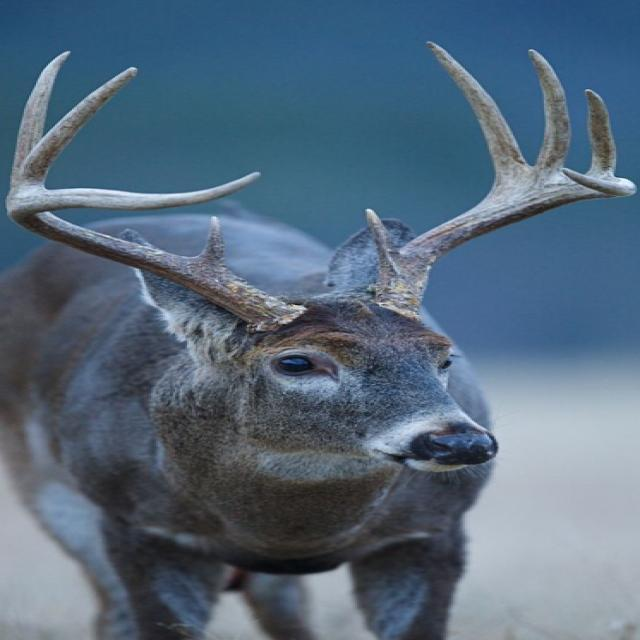L-F: (366, 168, 637, 320)
L-G1: (364, 208, 400, 264)
L-G2: (425, 40, 530, 173)
L-G3: (526, 49, 571, 170)
L-G4: (584, 88, 617, 178)
R-F: (7, 171, 305, 330)
R-G1: (194, 215, 226, 268)
R-G2: (7, 49, 73, 199)
R-G3: (7, 66, 139, 210)
